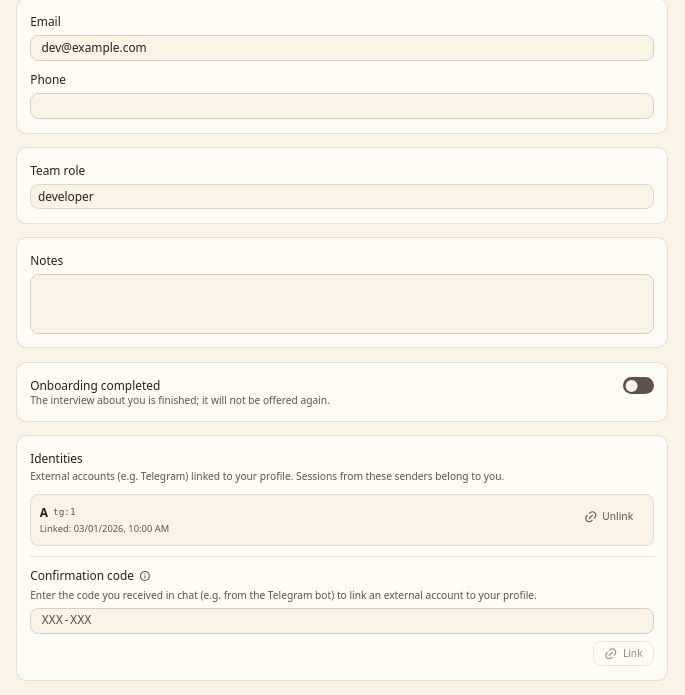
ProfileSettings — идентичности (ADR-089) › отвязка: подтверждение → deleteMyIdentity и удаление строки
The image size is (685, 695).
Click the button with test id "profile-identity-unlink-tg:1" at (608, 517), box [572,504,644,530]
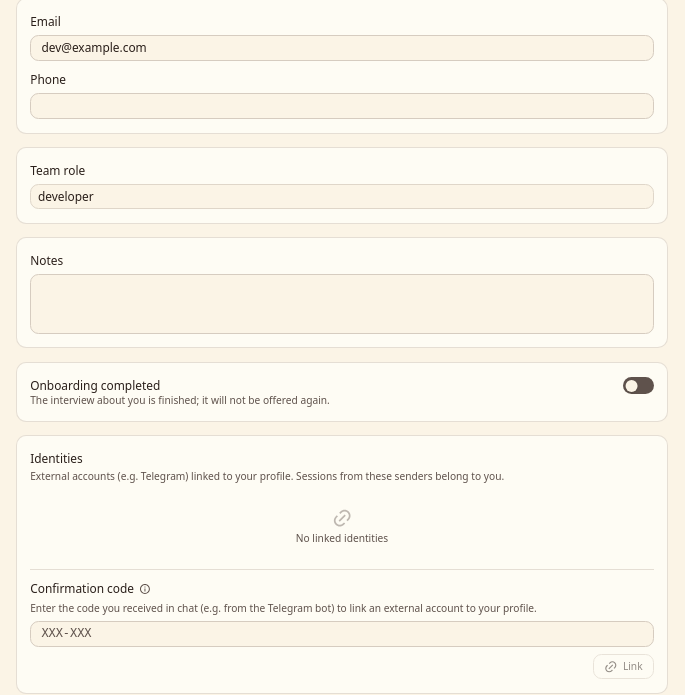
Check: the list item with test id "profile-identity-tg:1" is gone
Check: the element with test id "profile-identities-empty" is shown, box [296,508,388,545]
